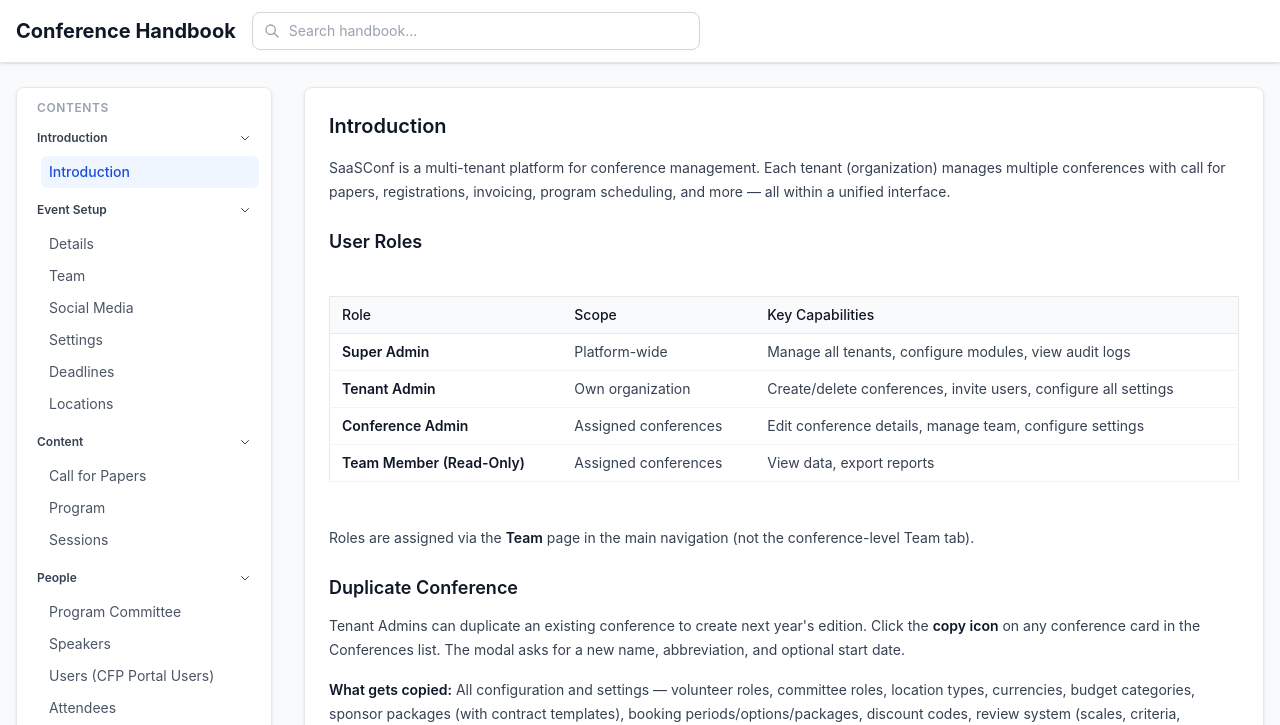
it: Handbook search › shows "No results" when no section contains all tokens
In the field with placeholder "Search handbook...": (476, 31) x1=252 y1=12 x2=700 y2=50, type "xyzzynotarealtoken"
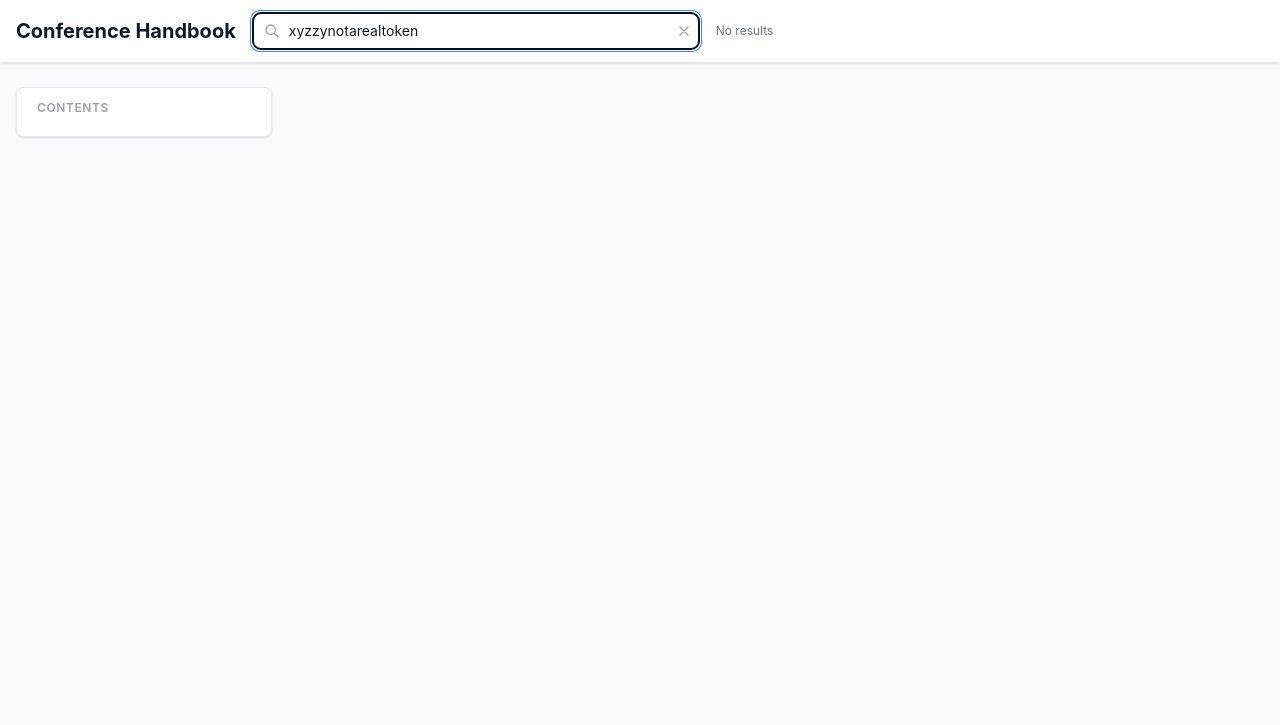
Result: the text "No results" is shown at x1=716 y1=23 x2=773 y2=39
